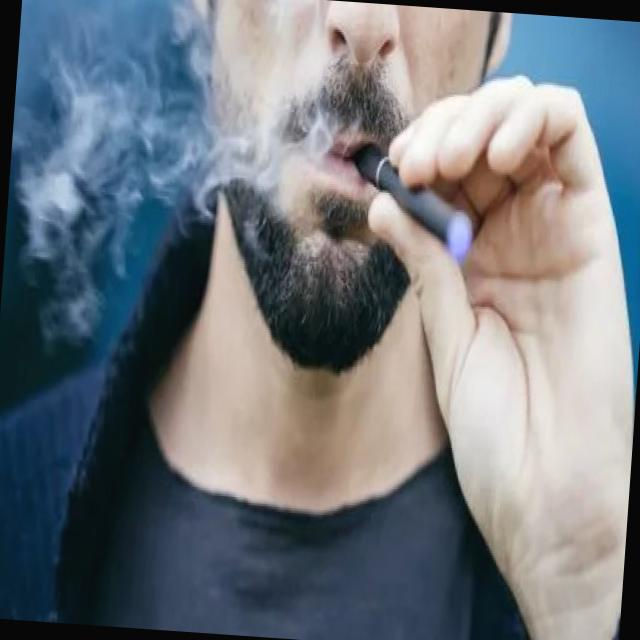cigarette: (347, 140, 482, 272)
